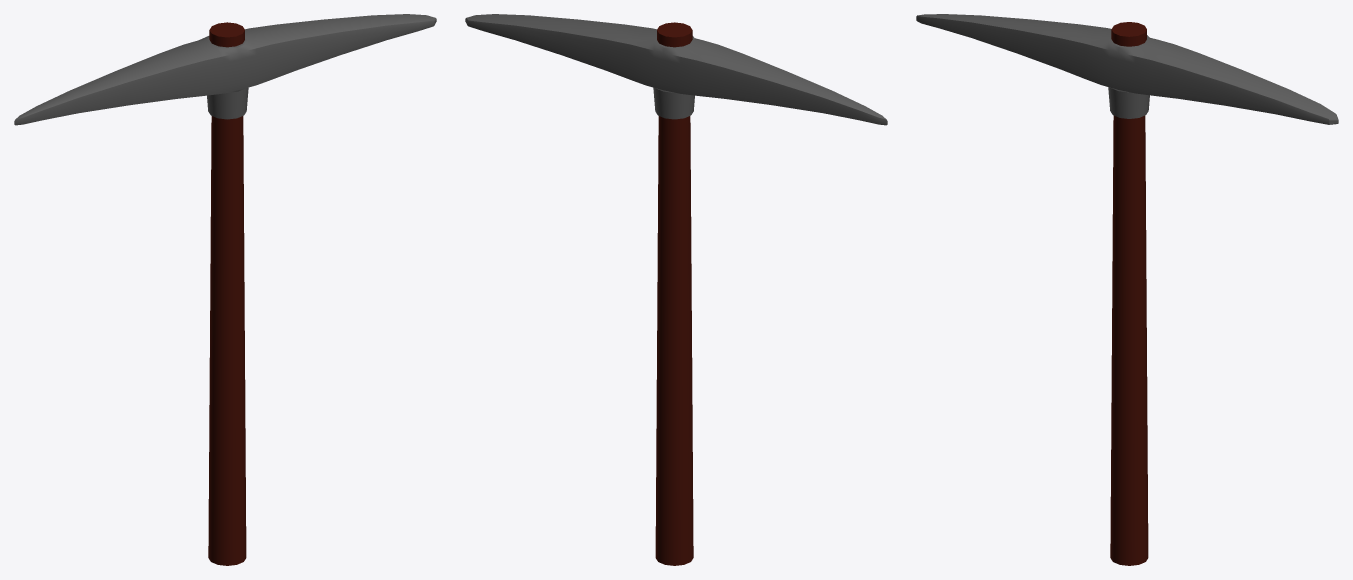
The model's file is Pickaxe.obj.
3 renders of one model, left to right at view 1: azimuth 30°, elevation 25°; view 2: azimuth 150°, elevation 25°; view 3: azimuth 330°, elevation 25°, orthographic.
Parts seen in each view (by area): view 1: Cube.001; view 2: Cube.001; view 3: Cube.001.
Boxes of the visible parts, x1,y1,x2,y2 form: Cube.001: (14, 14, 436, 565); Cube.001: (465, 14, 887, 565); Cube.001: (916, 14, 1338, 565).
Size of the model in its own units: 17.75 by 21.26 by 1.74.
